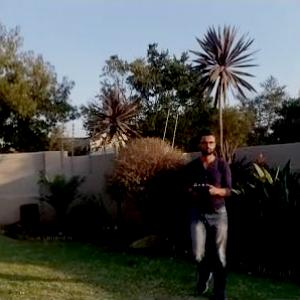follow: (184, 125, 236, 299)
